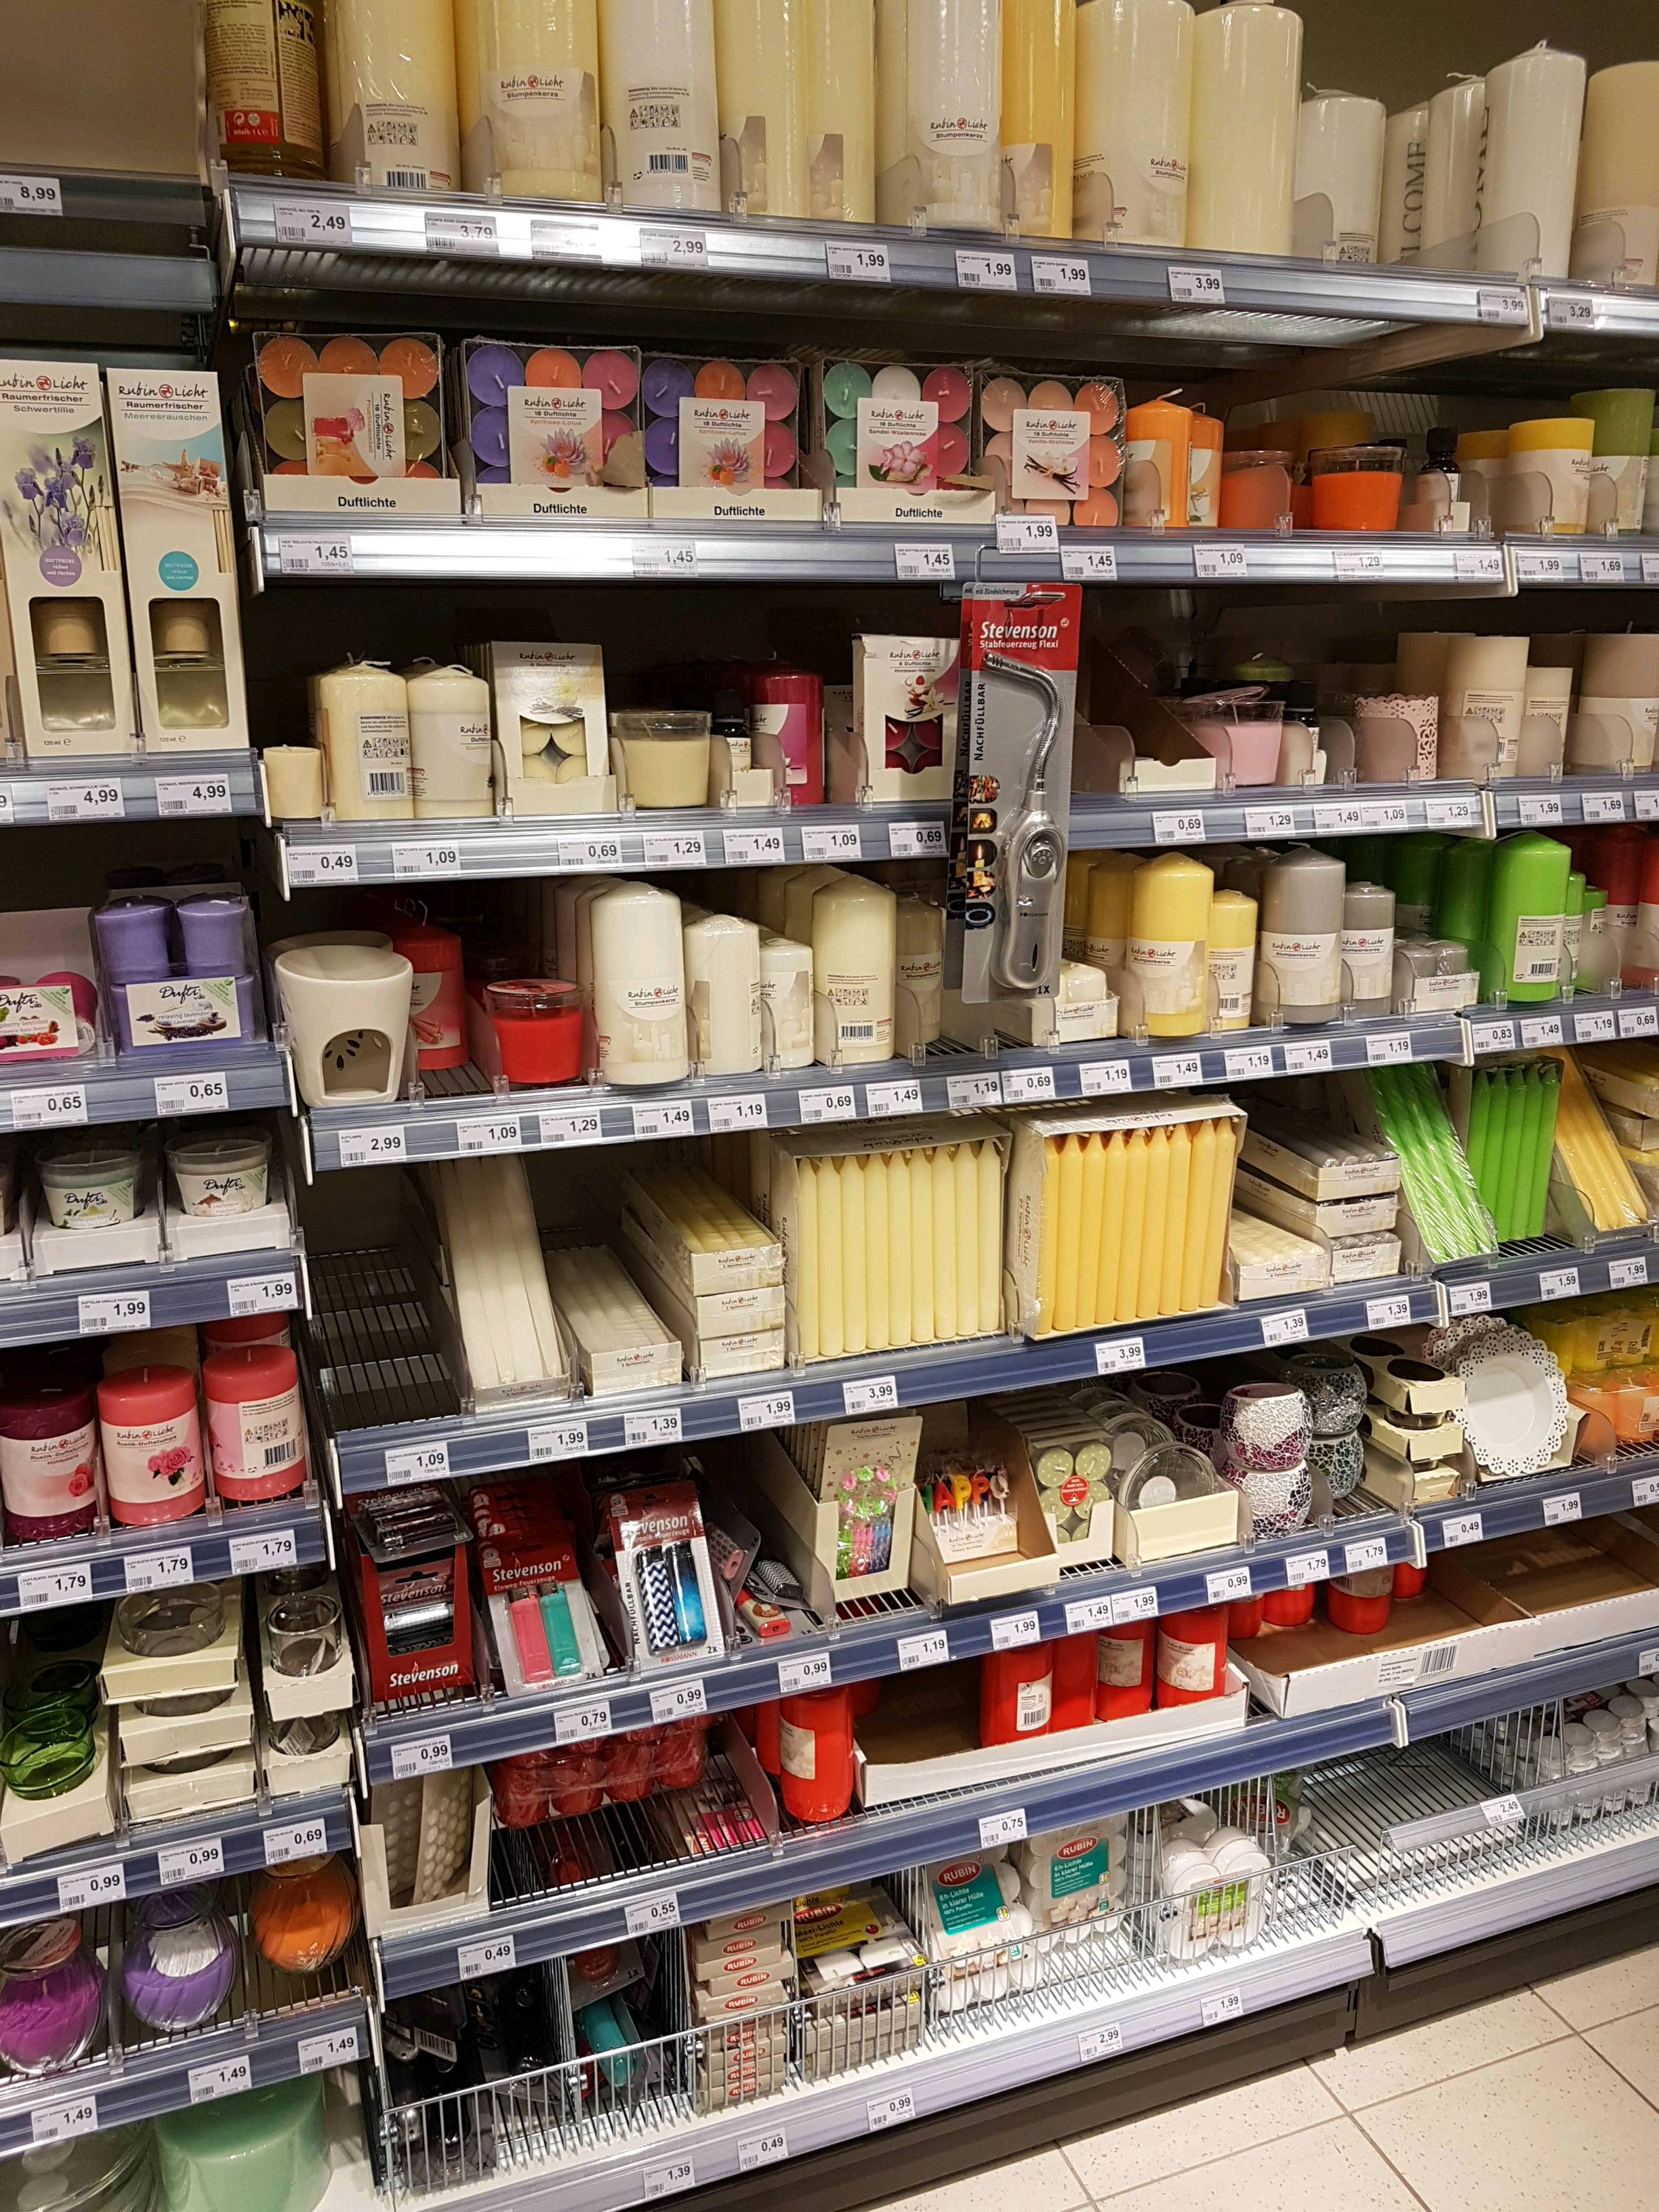product: (125, 359, 225, 751), (7, 361, 103, 751), (246, 327, 446, 512), (981, 632, 1072, 996), (464, 338, 633, 519), (450, 0, 603, 197), (643, 350, 807, 517), (1077, 3, 1187, 253), (880, 3, 1000, 226), (1199, 3, 1305, 254), (821, 350, 974, 517), (981, 364, 1131, 535), (1490, 38, 1588, 286), (270, 953, 408, 1109), (613, 3, 718, 206), (493, 636, 610, 810), (333, 3, 443, 186), (589, 878, 685, 1083), (157, 2094, 324, 2209), (206, 3, 319, 169), (720, 3, 807, 214), (856, 632, 953, 801), (1127, 845, 1213, 1035), (1007, 0, 1075, 235), (1591, 59, 1659, 293), (828, 1416, 915, 1592), (99, 1372, 200, 1521), (1039, 1818, 1138, 1968), (1312, 85, 1394, 266), (1267, 850, 1349, 1028), (0, 1933, 105, 2066), (202, 1357, 296, 1503), (814, 7, 878, 219), (122, 1898, 235, 2019), (824, 871, 894, 1062), (3, 1395, 92, 1543), (1492, 841, 1574, 1001), (1445, 634, 1530, 782), (939, 1851, 1021, 2003), (171, 906, 254, 1052), (406, 664, 483, 822), (253, 1862, 347, 1989), (164, 1130, 270, 1240), (1192, 681, 1290, 796), (0, 1709, 103, 1815), (1471, 1345, 1563, 1461), (333, 671, 403, 824), (692, 916, 756, 1082), (481, 970, 575, 1083), (927, 1458, 1026, 1564), (1218, 415, 1304, 536), (42, 1137, 146, 1237), (1506, 409, 1589, 533), (89, 906, 160, 1050), (96, 1627, 237, 1700), (1591, 631, 1659, 780), (1121, 1440, 1218, 1543), (784, 1688, 857, 1822), (1595, 388, 1659, 536), (371, 1573, 457, 1684), (1312, 435, 1408, 535), (260, 1609, 352, 1712), (763, 674, 828, 808), (1131, 381, 1190, 526), (899, 892, 953, 1050), (613, 711, 708, 801), (410, 1770, 471, 1905), (110, 1716, 263, 1764), (1356, 695, 1436, 787), (762, 935, 816, 1069), (1227, 1385, 1317, 1461), (1162, 1609, 1230, 1710), (352, 1501, 471, 1557), (1241, 1467, 1323, 1545), (1420, 425, 1478, 529), (493, 1566, 538, 1698), (364, 1780, 410, 1909), (791, 1157, 819, 1366), (992, 1644, 1054, 1737), (432, 2033, 476, 2163), (418, 934, 460, 1069), (31, 970, 96, 1057), (631, 1522, 671, 1662), (507, 1150, 530, 1393), (483, 1151, 505, 1395), (457, 1153, 479, 1397), (1340, 1559, 1405, 1639), (1359, 881, 1398, 1015), (1216, 881, 1258, 1003), (542, 1573, 587, 1684), (1105, 1623, 1157, 1719), (803, 1966, 929, 2005), (981, 1143, 1006, 1334), (1588, 892, 1633, 995), (511, 1987, 551, 2102), (716, 695, 755, 813), (120, 1780, 263, 1811), (1534, 667, 1572, 780), (584, 2008, 633, 2097), (676, 1529, 711, 1653), (256, 752, 321, 819), (892, 1151, 913, 1352), (1567, 1317, 1659, 1362), (821, 1151, 840, 1360), (1056, 1641, 1101, 1728), (1486, 1069, 1509, 1244), (810, 2019, 925, 2052), (1148, 1123, 1168, 1320), (1124, 1127, 1143, 1324), (960, 1141, 979, 1336), (589, 1352, 674, 1395), (1570, 1205, 1659, 1247), (1305, 1157, 1398, 1197), (1530, 1742, 1570, 1834), (688, 1249, 784, 1287), (871, 1150, 889, 1357), (845, 1157, 863, 1357), (559, 1944, 640, 1987), (1588, 1385, 1659, 1433), (939, 1144, 957, 1343), (1063, 1130, 1080, 1327), (1236, 1249, 1317, 1291), (1326, 1442, 1380, 1503), (1213, 1116, 1230, 1305), (1394, 1411, 1466, 1456), (1042, 1137, 1058, 1339), (1509, 1066, 1527, 1247), (917, 1148, 932, 1348), (1321, 1378, 1373, 1435), (606, 1743, 659, 1801), (500, 1766, 545, 1832), (1438, 949, 1481, 1017), (1190, 1120, 1206, 1308), (1530, 1069, 1547, 1238), (695, 1294, 784, 1327), (1173, 1123, 1188, 1310), (1401, 1461, 1466, 1507), (699, 1338, 781, 1372), (1331, 1242, 1412, 1277), (1084, 1130, 1098, 1327), (559, 1756, 603, 1818), (1277, 1580, 1323, 1639), (1103, 1127, 1117, 1318), (1603, 1723, 1629, 1824), (666, 1738, 713, 1794), (1574, 1730, 1601, 1822), (1633, 1716, 1659, 1813), (1312, 1205, 1398, 1235), (1169, 1851, 1218, 1902), (1406, 942, 1439, 1010), (1424, 1249, 1507, 1275), (1223, 1851, 1274, 1893), (695, 1961, 788, 1984), (1171, 1912, 1211, 1961), (706, 1905, 798, 1926), (1039, 1446, 1075, 1496), (1237, 1599, 1272, 1651), (714, 1529, 744, 1590), (760, 1566, 807, 1602), (1230, 1905, 1272, 1946), (702, 1998, 803, 2013), (711, 2019, 802, 2036), (708, 2067, 798, 2085), (702, 2045, 793, 2062), (692, 1937, 781, 1952), (1080, 1440, 1110, 1484), (756, 1620, 796, 1637)
